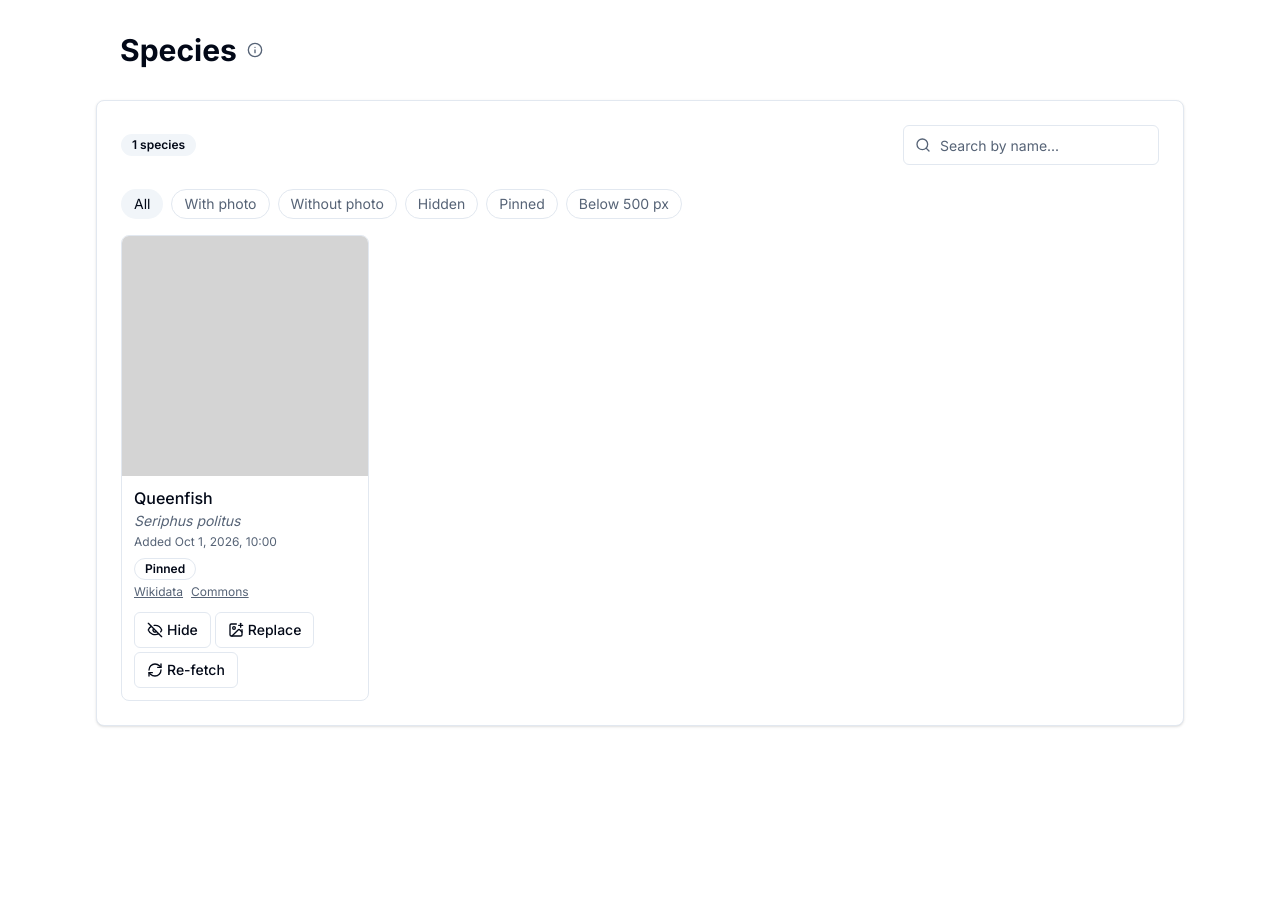
re-fetching a photo › asks first on a pinned row, saying the pin is dropped
Click the button "Re-fetch".
click(186, 670)  # box x1=134 y1=652 x2=238 y2=688
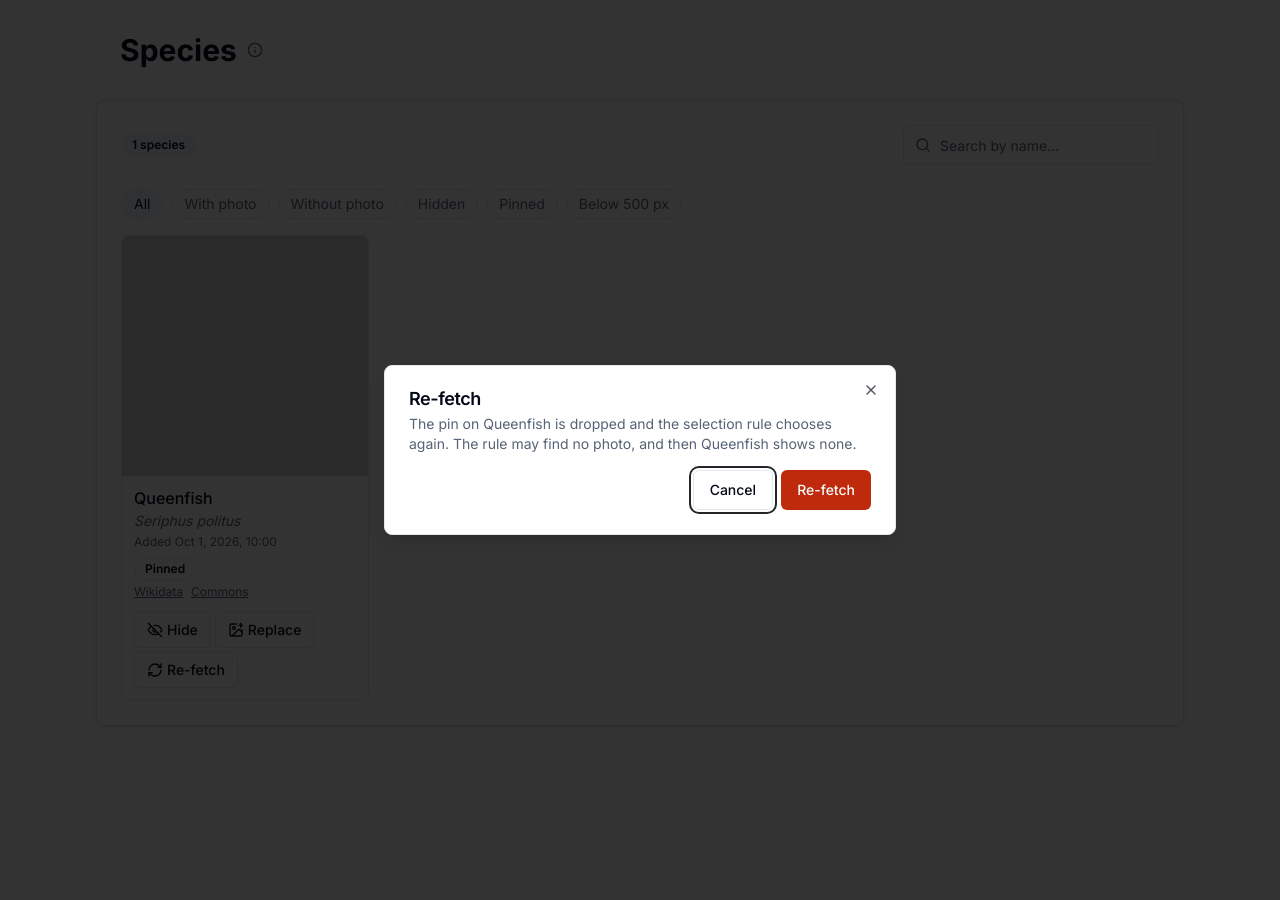
Expected: the dialog shows "The pin on Queenfish is dropped", x1=409 y1=415 x2=856 y2=452
Click the button "Re-fetch".
click(826, 490)  # box x1=781 y1=470 x2=871 y2=510
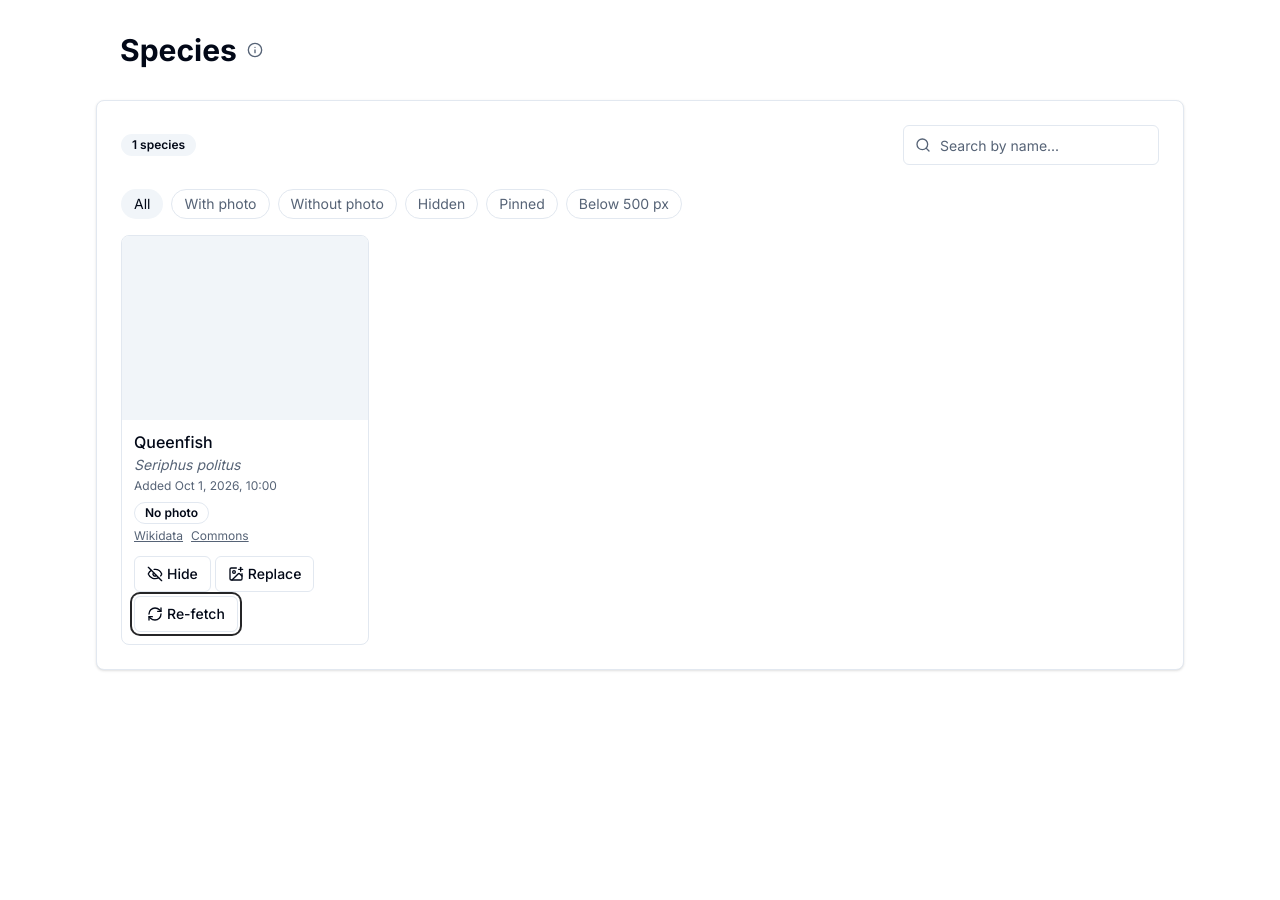
Expected: the text "No photo" is shown, x1=134 y1=502 x2=209 y2=524
